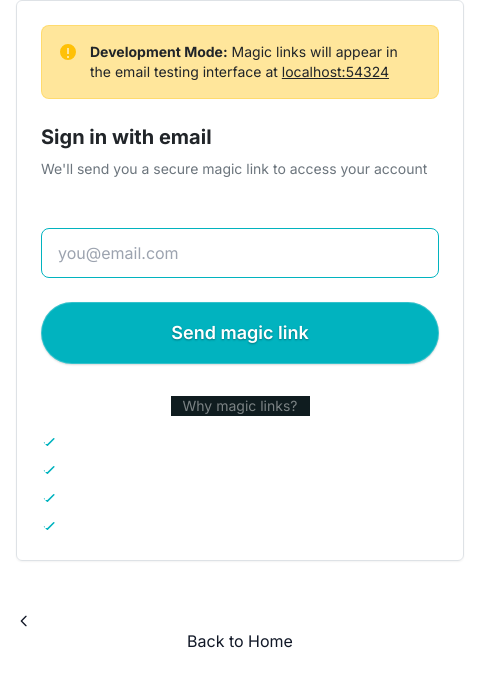
Test: SignInClient › shows validation error when submitting empty form
Click the button "Send magic link".
click(240, 333)  # box [41,302,439,364]
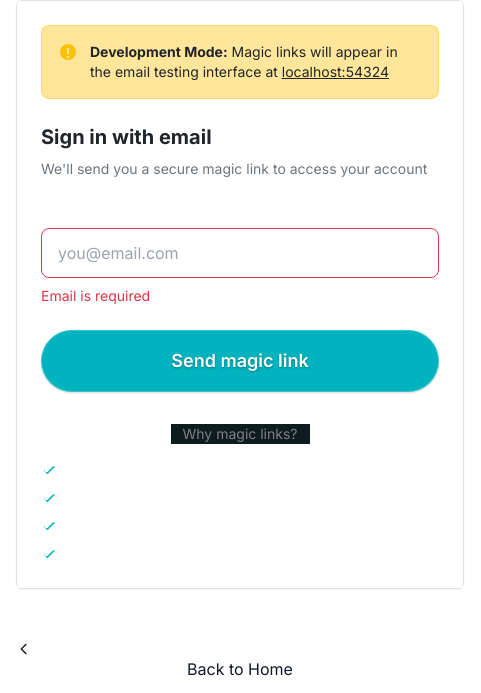
Result: the text "Email is required" is shown at [41,287,150,304]
